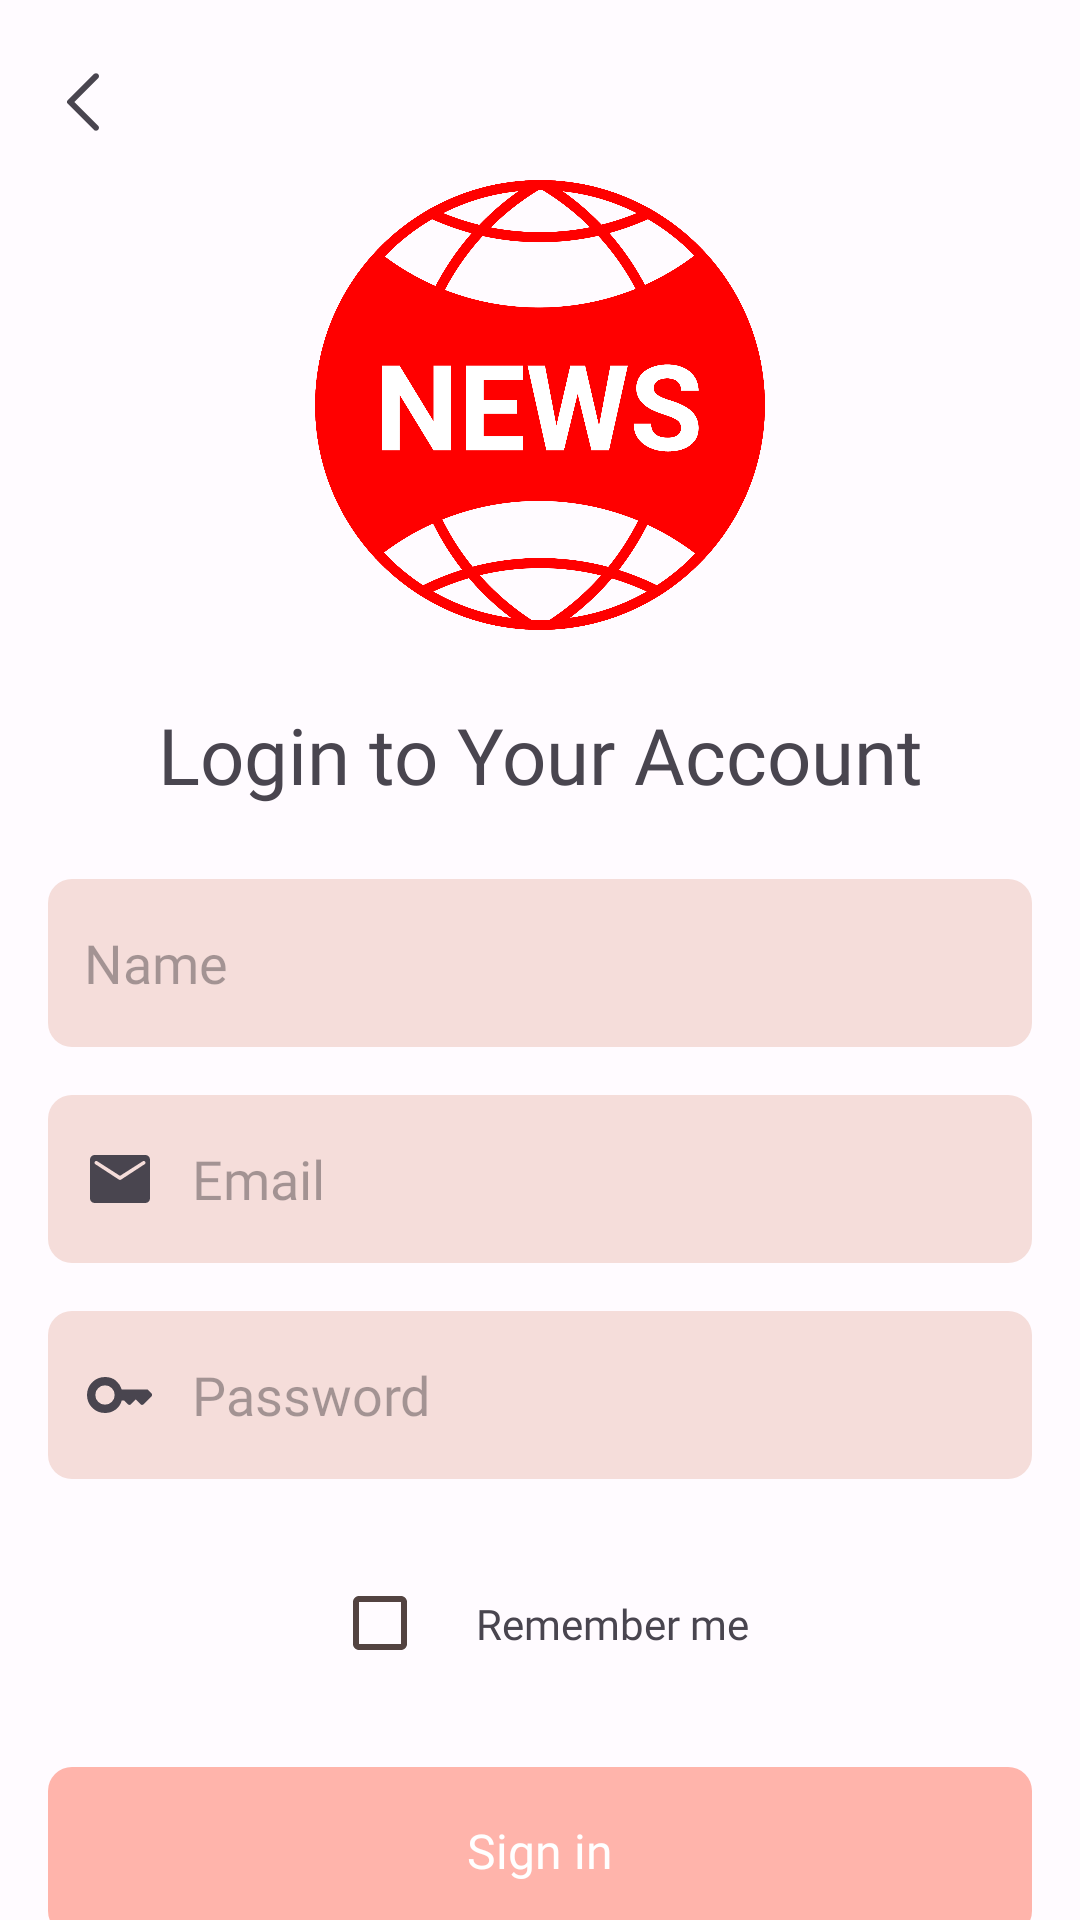

Named icons in this screenshot (1080px x 1920px) and their bounding boxes, (x1, y1, x2, y2):
back: (67, 73, 99, 131)
